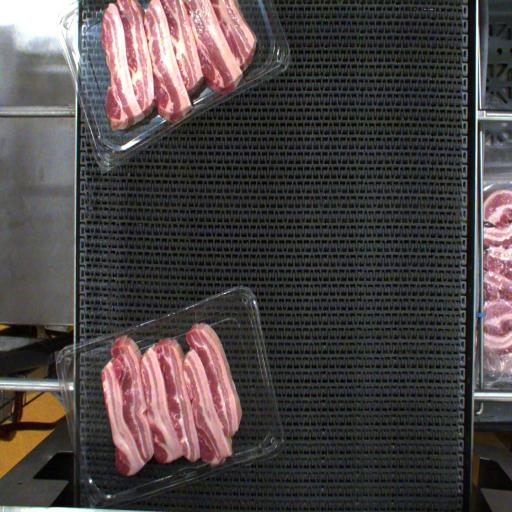packaging-error: (208, 455, 241, 478), (110, 329, 136, 348)
